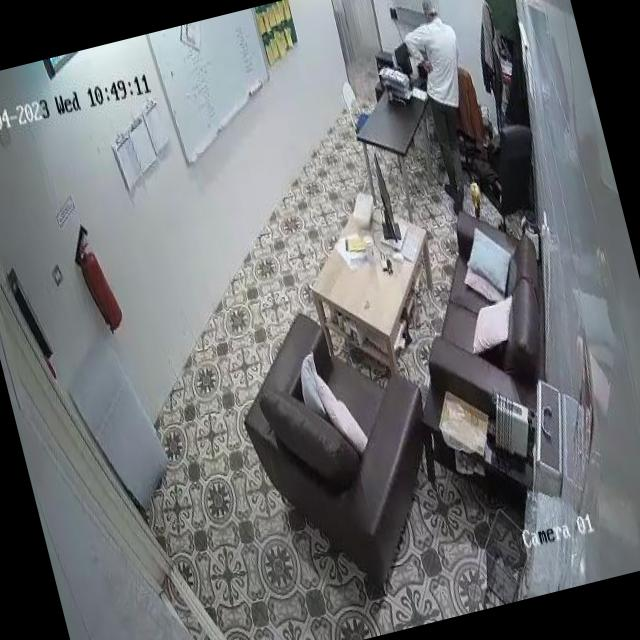hairnet: (419, 0, 438, 18)
